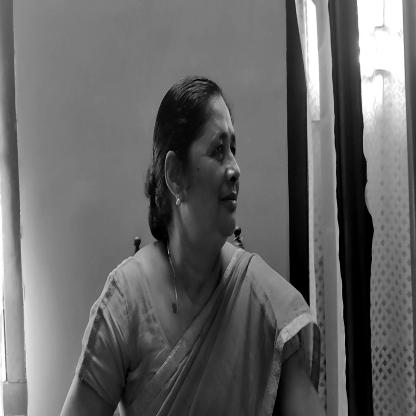Distracted: (155, 76, 242, 257)
